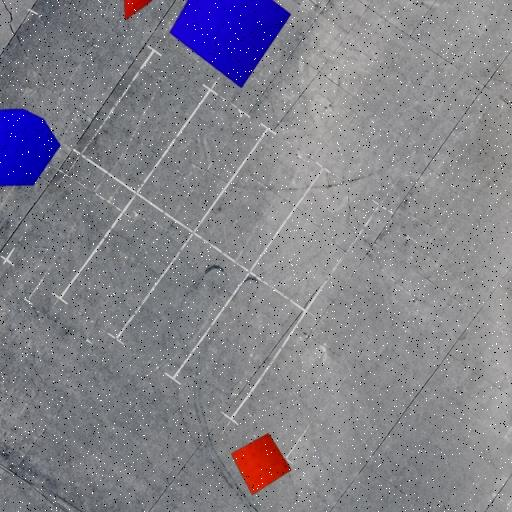BLUE_SQUARE: (169, 0, 291, 89)
RED_SQUARE: (230, 432, 292, 496)
